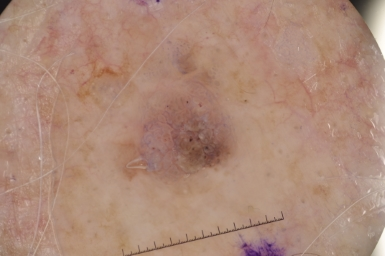seborrheic keratosis: (118, 63, 244, 191)
